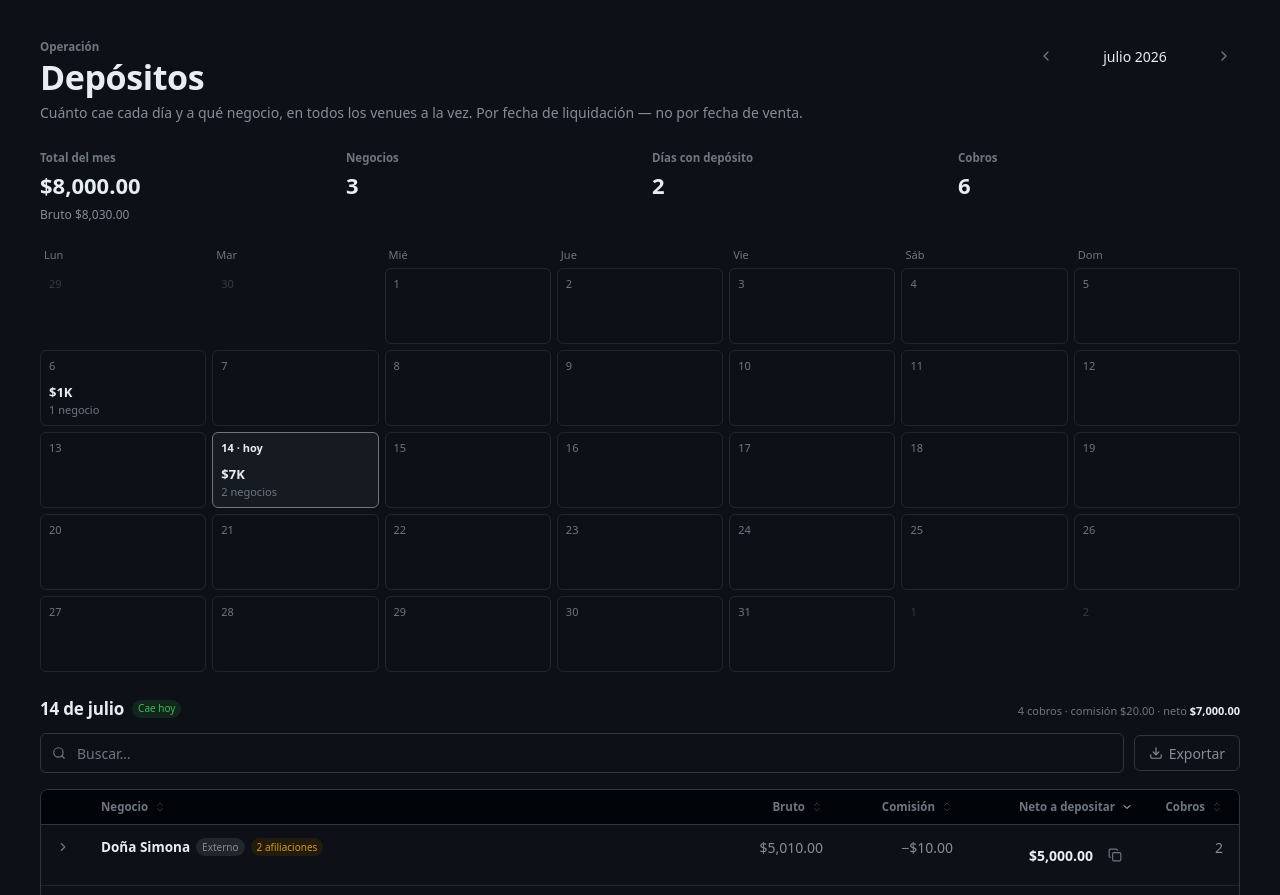
Scenario: SettlementCalendarPage › navega al mes anterior
Expected: the text "julio 2026" is shown, 1103,46 -> 1167,66
Click the button named "Mes anterior": (1046, 56) 1030,40 -> 1062,72
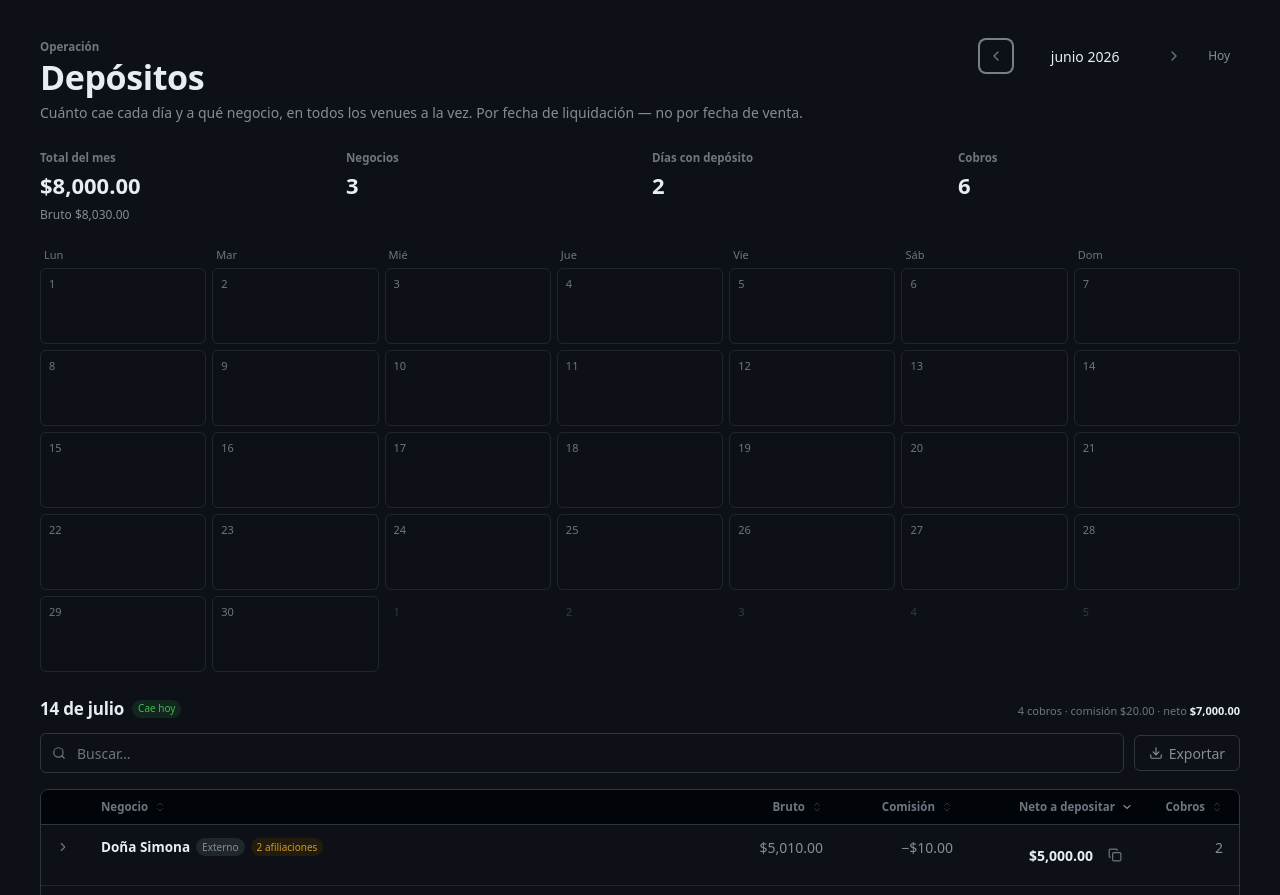
Result: the text "junio 2026" is shown at 1051,46 -> 1120,66
